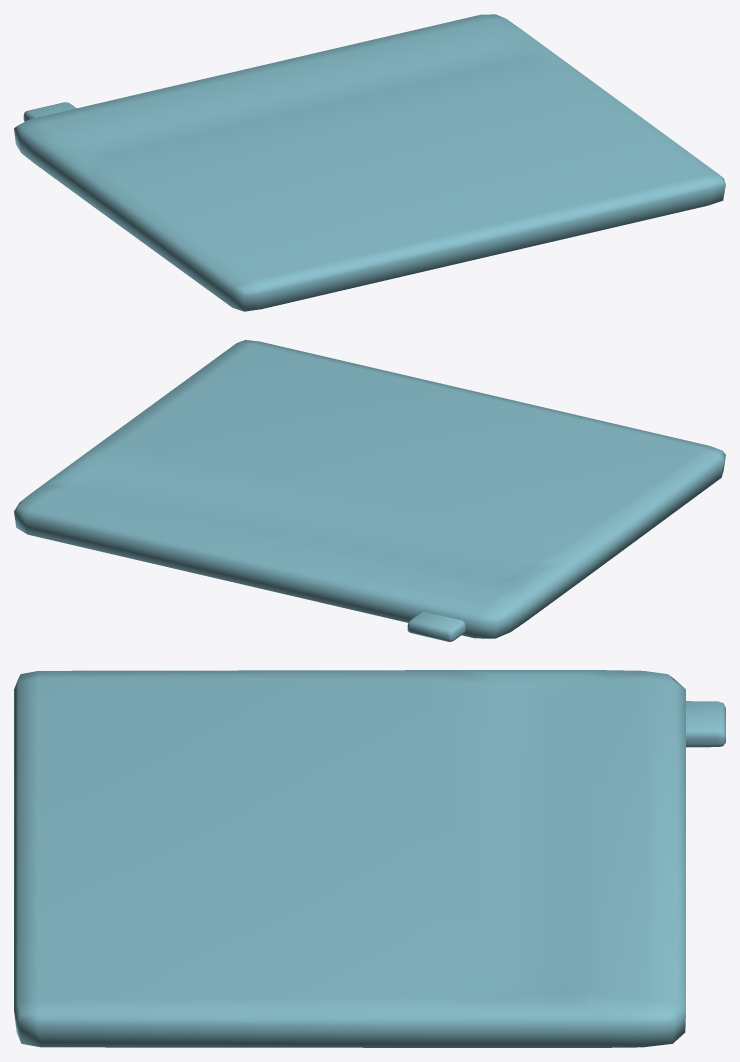
Rendered from Wacom_Board.fbx.
The picture shows the model from 3 angles, top to bottom: view 1: azimuth 30°, elevation 25°; view 2: azimuth 150°, elevation 25°; view 3: azimuth 270°, elevation 25°; orthographic projection. The views are drawn at different scales.
Visible parts, largest first — view 1: Wacom_Board; view 2: Wacom_Board; view 3: Wacom_Board.
Part boxes in pixels (x1=…): Wacom_Board: x1=14, y1=14, x2=725, y2=311; Wacom_Board: x1=14, y1=340, x2=725, y2=641; Wacom_Board: x1=14, y1=670, x2=725, y2=1047.
Size of the model in its own units: 34.39 by 2.42 by 30.16.
